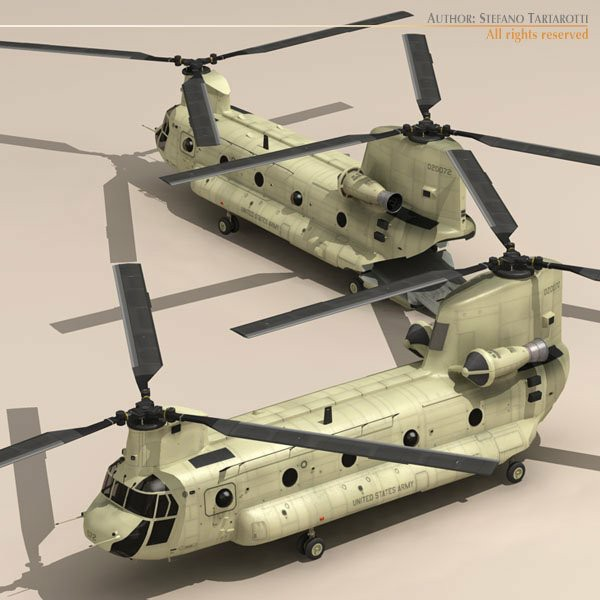chinook: (48, 253, 582, 567), (79, 11, 502, 250)
